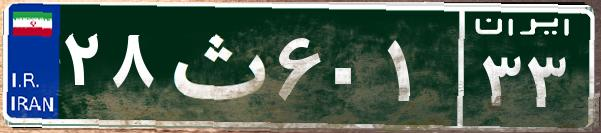0: (330, 28, 385, 110)
1: (385, 28, 445, 110)
2: (57, 26, 110, 107)
3: (475, 38, 525, 113), (525, 38, 570, 115)
6: (273, 28, 330, 110)
8: (110, 28, 158, 105)
ث: (158, 15, 273, 115)
